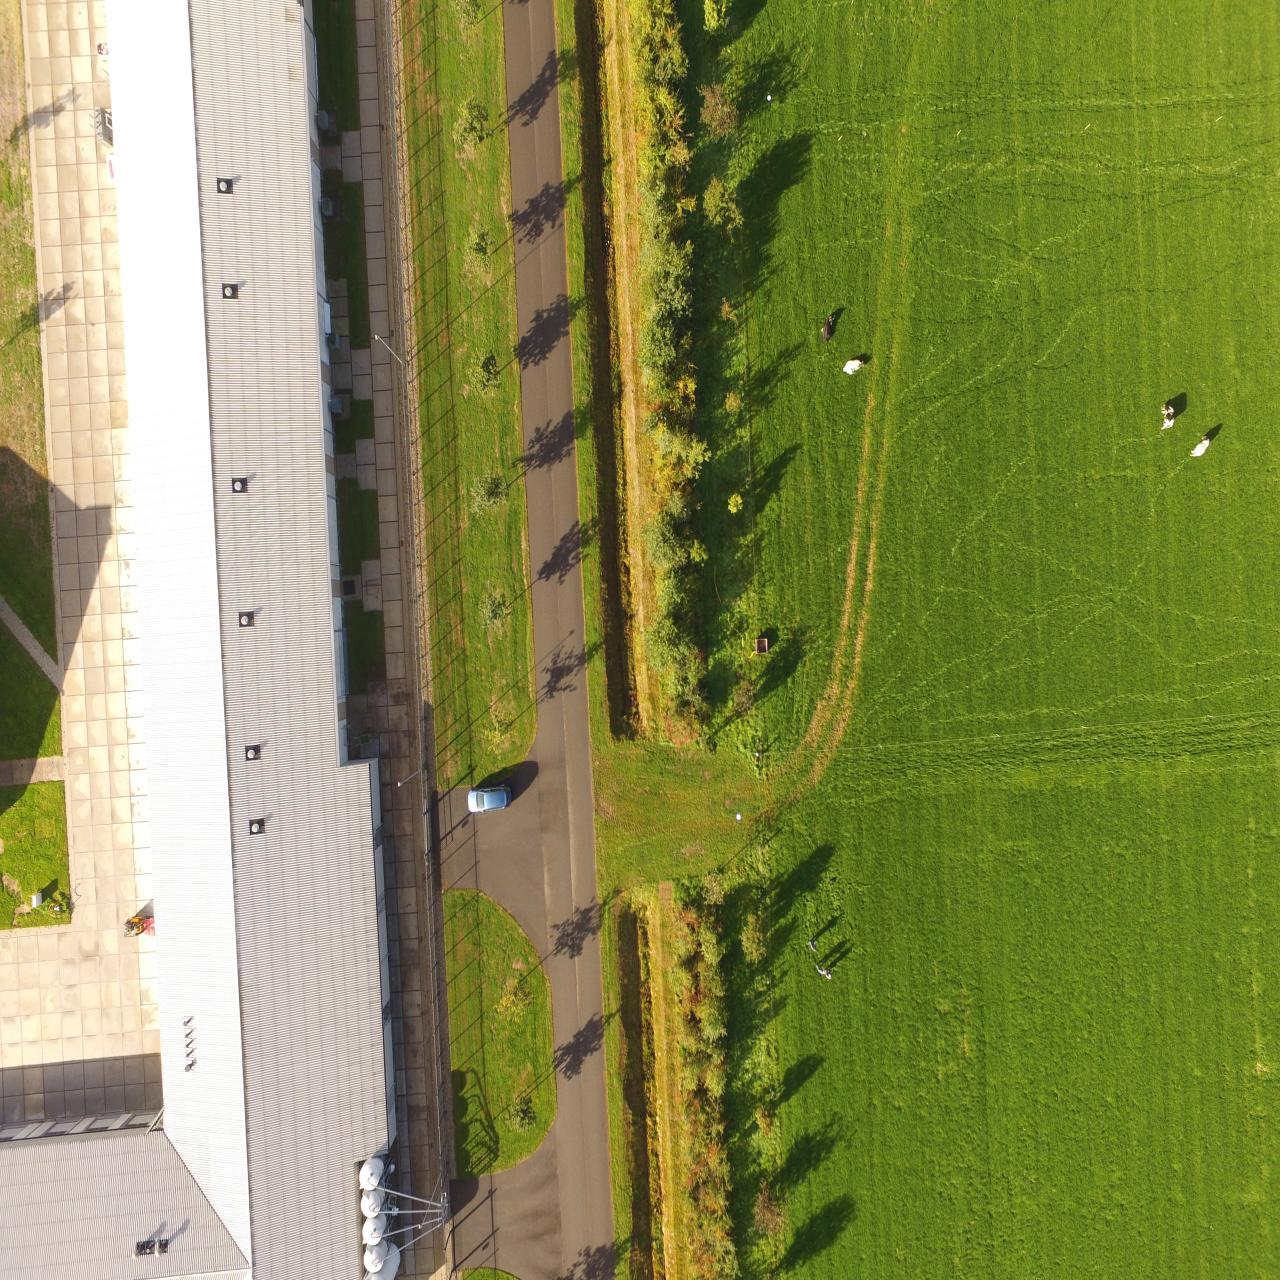cow: (838, 354, 870, 377), (818, 311, 837, 348), (1190, 429, 1208, 459), (1159, 400, 1175, 434)
